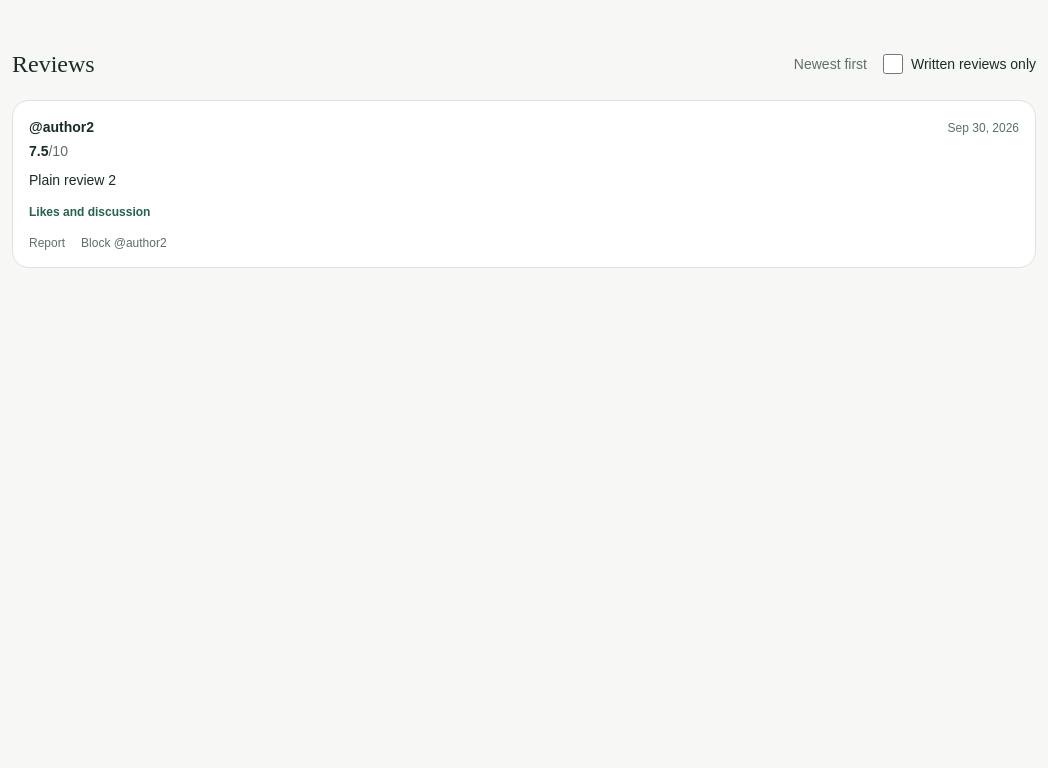
Scenario: <ReviewList> › keeps the report open with the reason when it's refused
This screenshot has width=1048, height=768.
Click the button "Report".
click(47, 243)  # box [29,235,65,251]
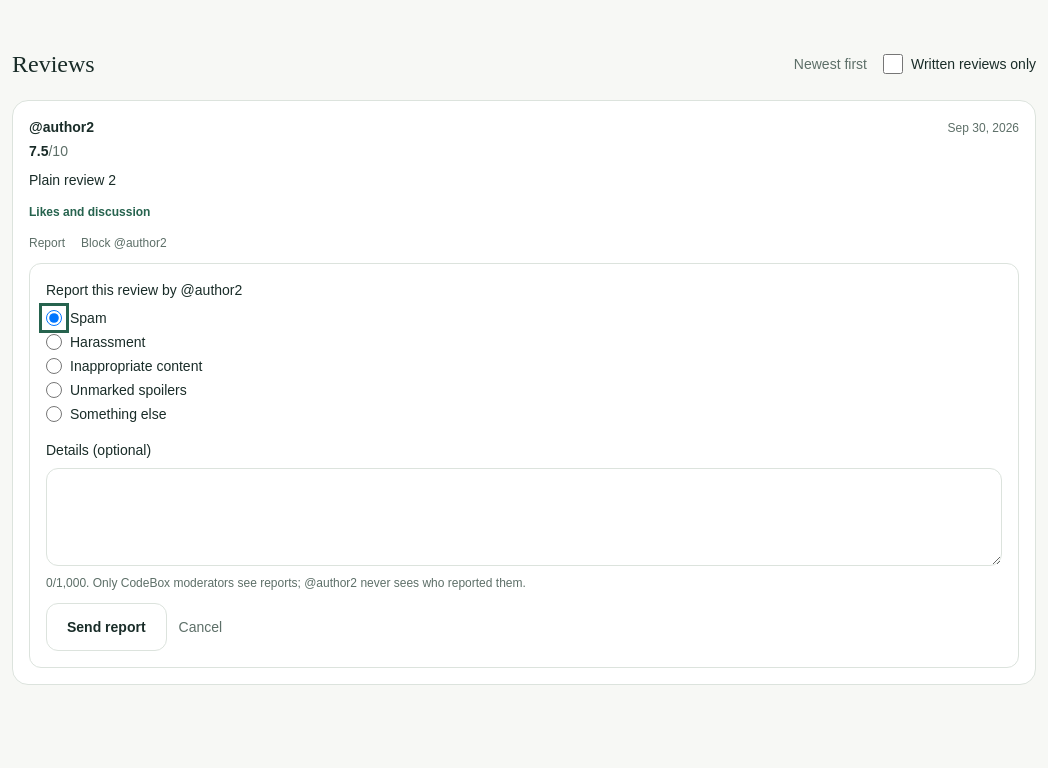
Type "Keep this text" into the text box labelled "Details (optional)".
click(524, 517); type("Keep this text")  # box [46,468,1002,566]
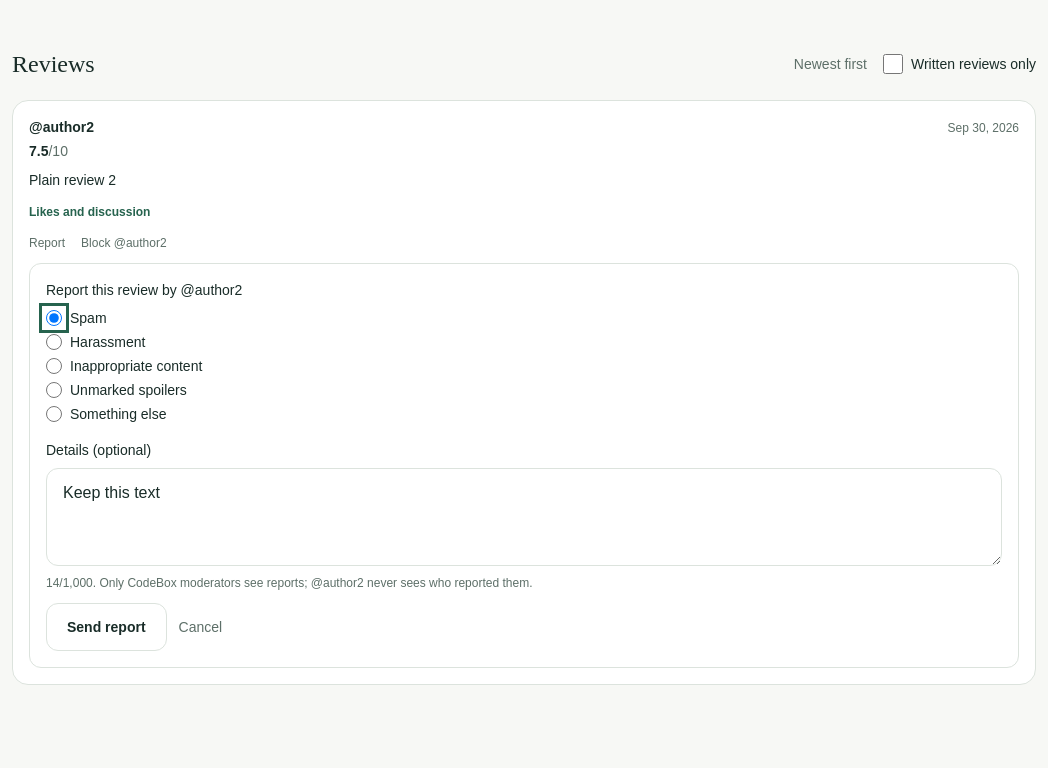
Click the button "Send report".
click(106, 627)  # box [46,603,167,651]
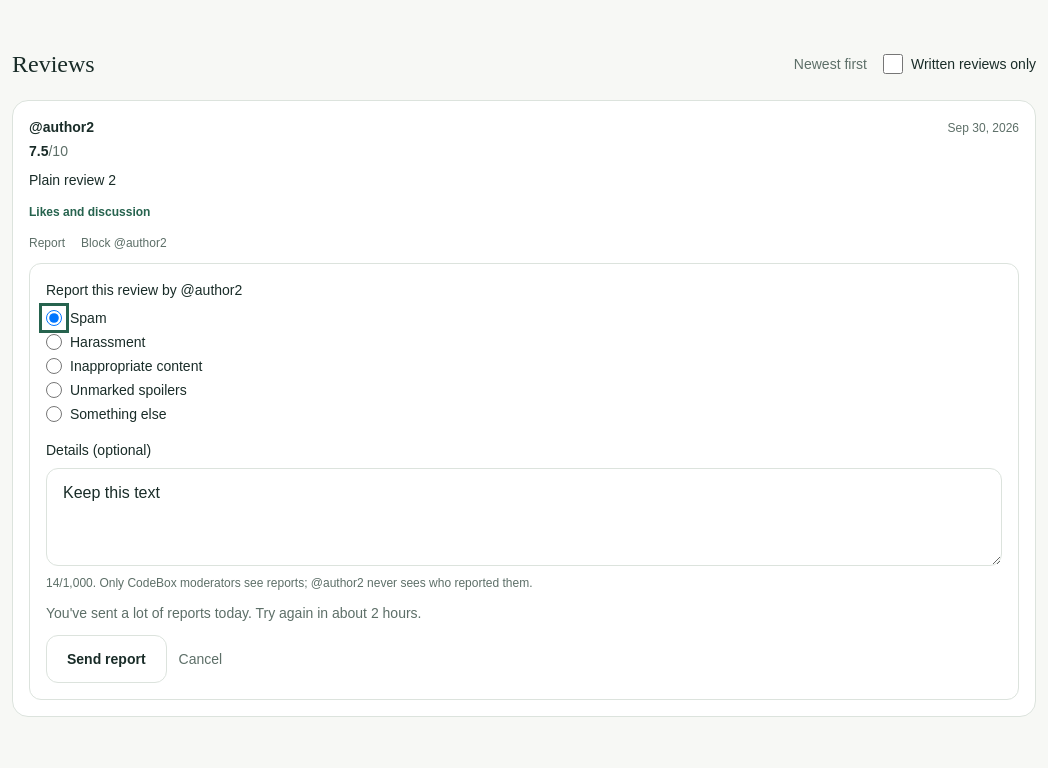
expect the message shows "about 2 hours": met, box [46,605,422,621]
